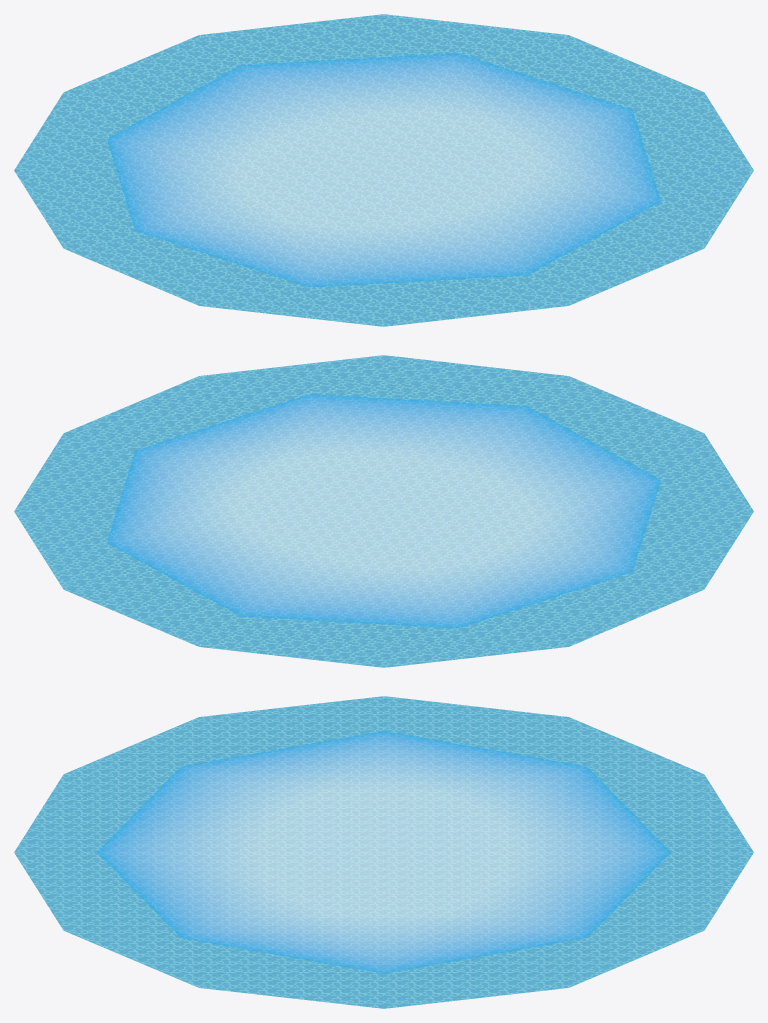
Rendered from mini_stage3-mini_stage3_wate.glb.
3 views of the same model, one above another, from view 1: azimuth 30°, elevation 25°; view 2: azimuth 150°, elevation 25°; view 3: azimuth 270°, elevation 25° (orthographic).
Parts seen in each view (by area): view 1: mini_stage3_wate; view 2: mini_stage3_wate; view 3: mini_stage3_wate.
Boxes of the visible parts, bbox=[...] form: mini_stage3_wate: bbox=[14, 14, 753, 326]; mini_stage3_wate: bbox=[14, 355, 753, 667]; mini_stage3_wate: bbox=[14, 696, 753, 1008].
Bounding box in the file's own units: 375 × 0.1016 × 375.
Materials: 2 (2 with a texture image).
